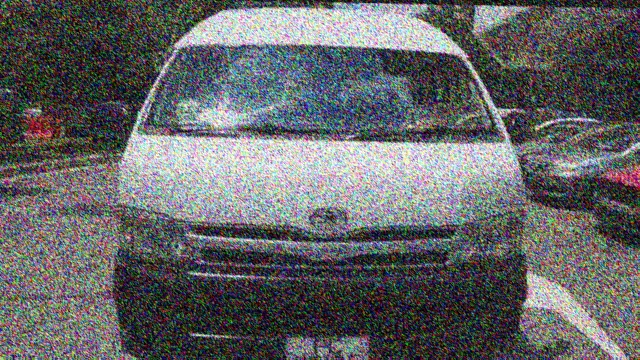van: (103, 1, 545, 360)
